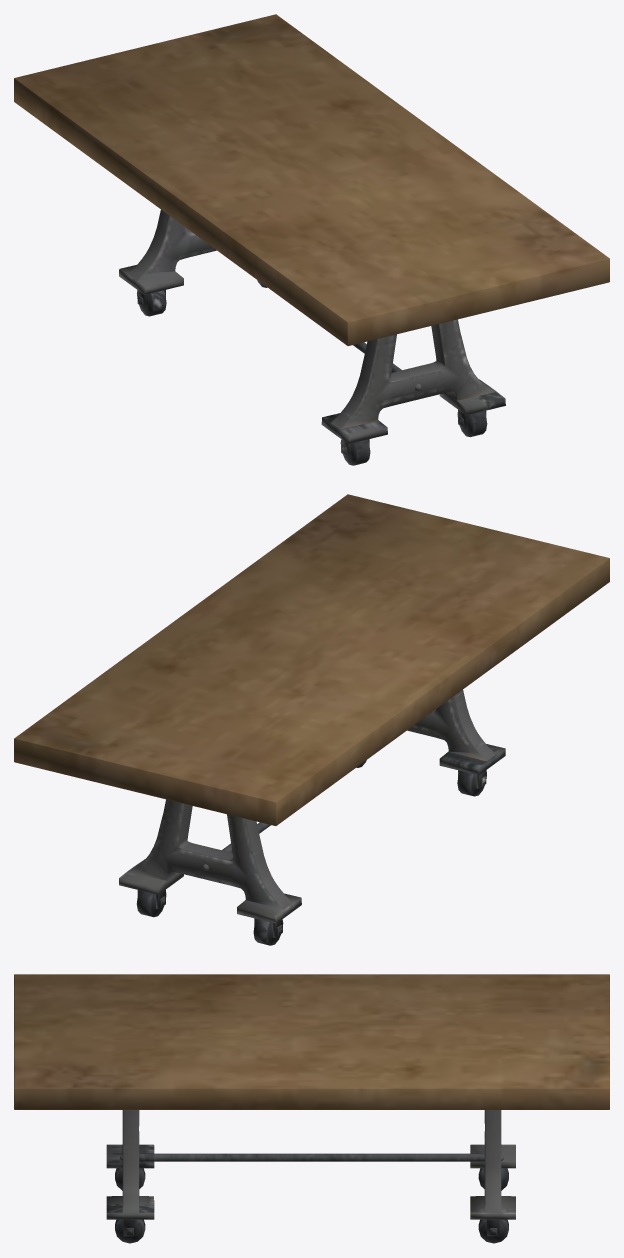
The model's file is SM_Dining_Table_02_de067b.glb.
3 renders of one model, top to bottom at view 1: azimuth 30°, elevation 25°; view 2: azimuth 150°, elevation 25°; view 3: azimuth 270°, elevation 25°, orthographic. The views are drawn at different scales.
Bounding box in the file's own units: 0.9982 × 0.7489 × 2.2.
Materials: 1 (1 with a texture image).
